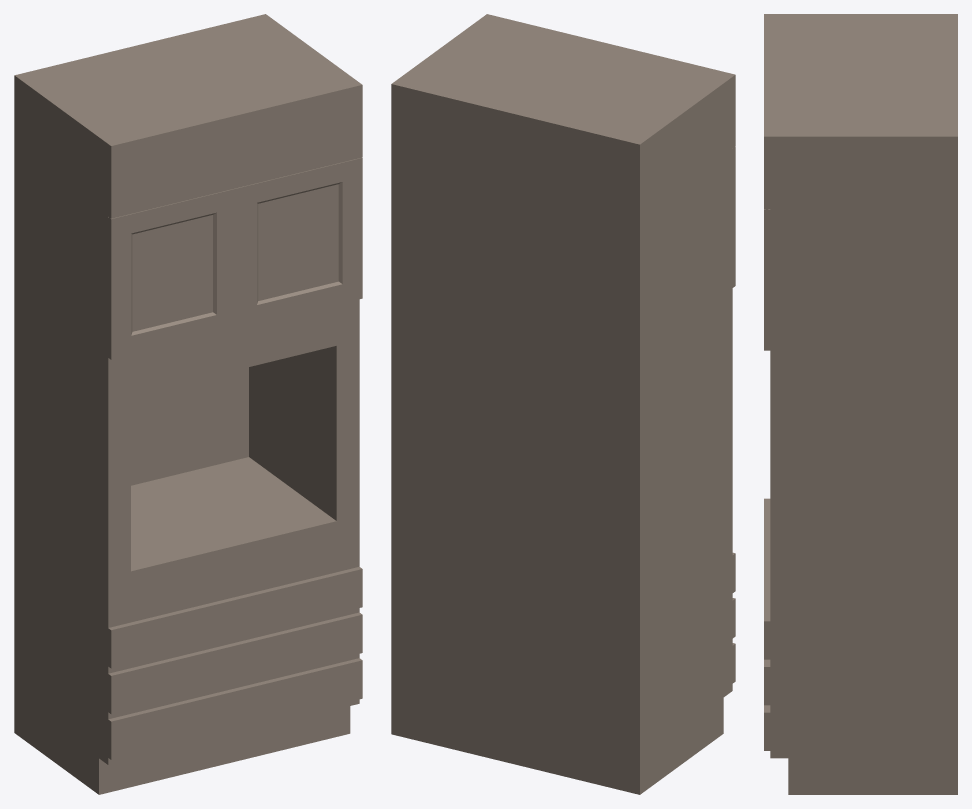
The model's file is Oven-Cabinet-24-Deep_std_001_W36in_2D.glb.
3 views of the same model, side by side, from view 1: azimuth 30°, elevation 25°; view 2: azimuth 150°, elevation 25°; view 3: azimuth 270°, elevation 25° (orthographic).
Visible parts, largest first — view 1: Oven-Cabinet-24-Deep.std.001_W36in_2D; view 2: Oven-Cabinet-24-Deep.std.001_W36in_2D; view 3: Oven-Cabinet-24-Deep.std.001_W36in_2D.
Boxes of the visible parts, x1,y1,x2,y2 form: Oven-Cabinet-24-Deep.std.001_W36in_2D: (14,14,362,794); Oven-Cabinet-24-Deep.std.001_W36in_2D: (391,14,735,794); Oven-Cabinet-24-Deep.std.001_W36in_2D: (764,14,957,794).
Size of the model in its own units: 0.9144 by 2.29 by 0.6096.
